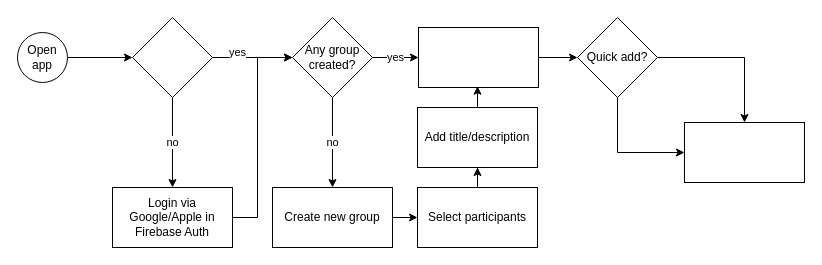
Image size: 822x265. Some labels were removed from this diagram. Each missing label, with the centre of its shape:
"Create expense in group" goes at point 744,152.
"Login?" goes at point 172,57.
"Select group" goes at point 478,57.
